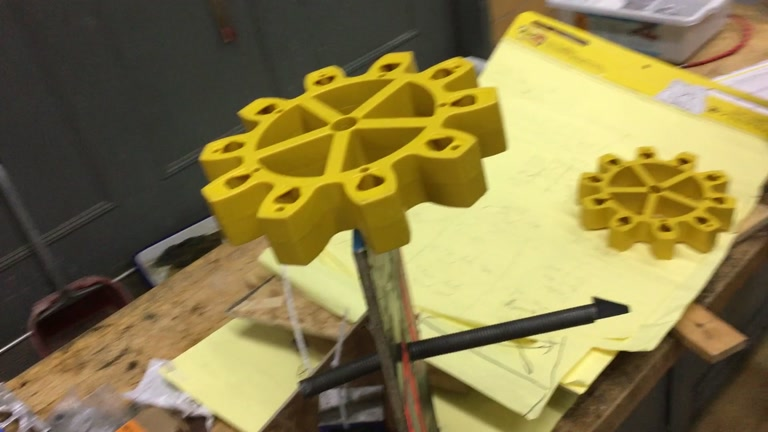gear: (197, 49, 508, 266), (576, 145, 736, 260)
